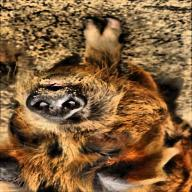boar: (0, 17, 192, 192), (0, 55, 20, 91)
